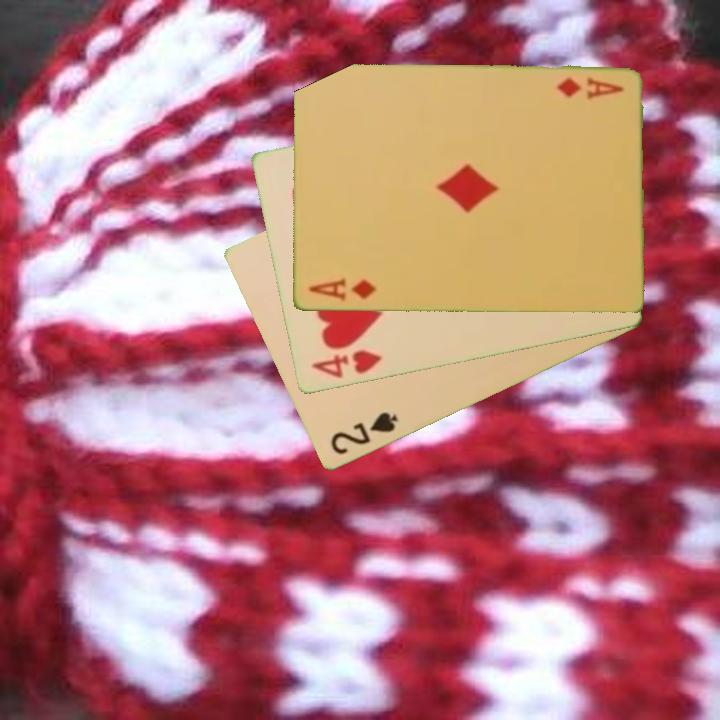2s: (327, 408, 401, 458)
4h: (308, 347, 384, 382)
Ad: (305, 275, 379, 304), (552, 74, 626, 103)
